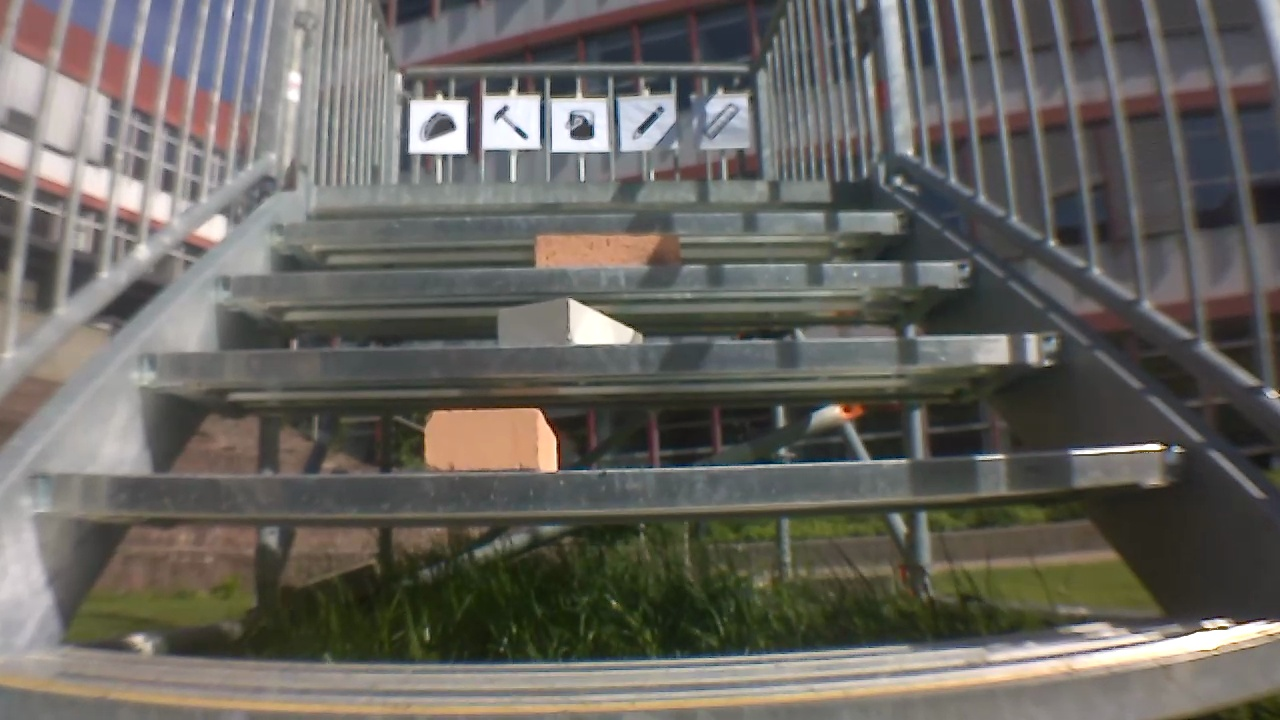brick: (418, 406, 560, 473), (488, 297, 645, 348), (532, 228, 686, 269)
bucket: (562, 110, 598, 146)
edge: (25, 451, 1193, 517), (208, 258, 977, 313), (144, 345, 1061, 389), (258, 212, 918, 248), (308, 176, 872, 210)
hammer: (490, 102, 531, 143)
pencil: (630, 102, 670, 144)
ruler: (703, 104, 734, 140)
steps: (5, 172, 1280, 720)
taco: (416, 103, 459, 141)
